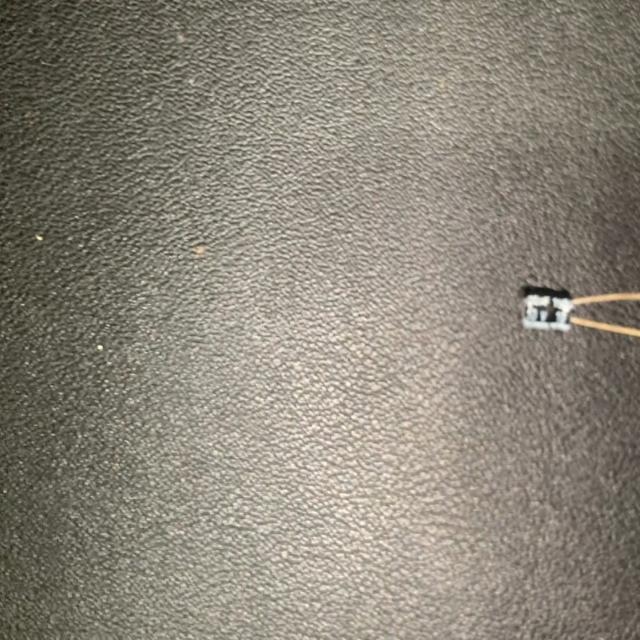capacitor: (514, 272, 640, 336)
